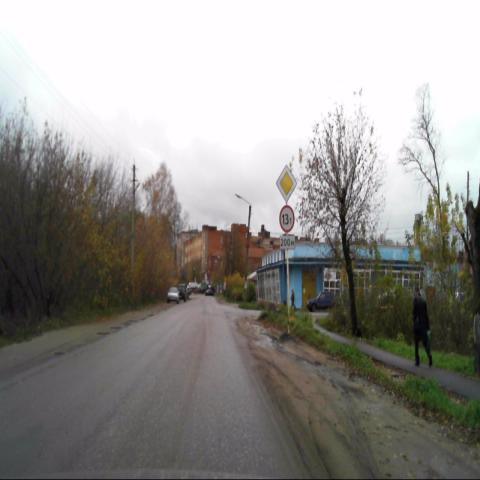3_11: (279, 205, 295, 233)
